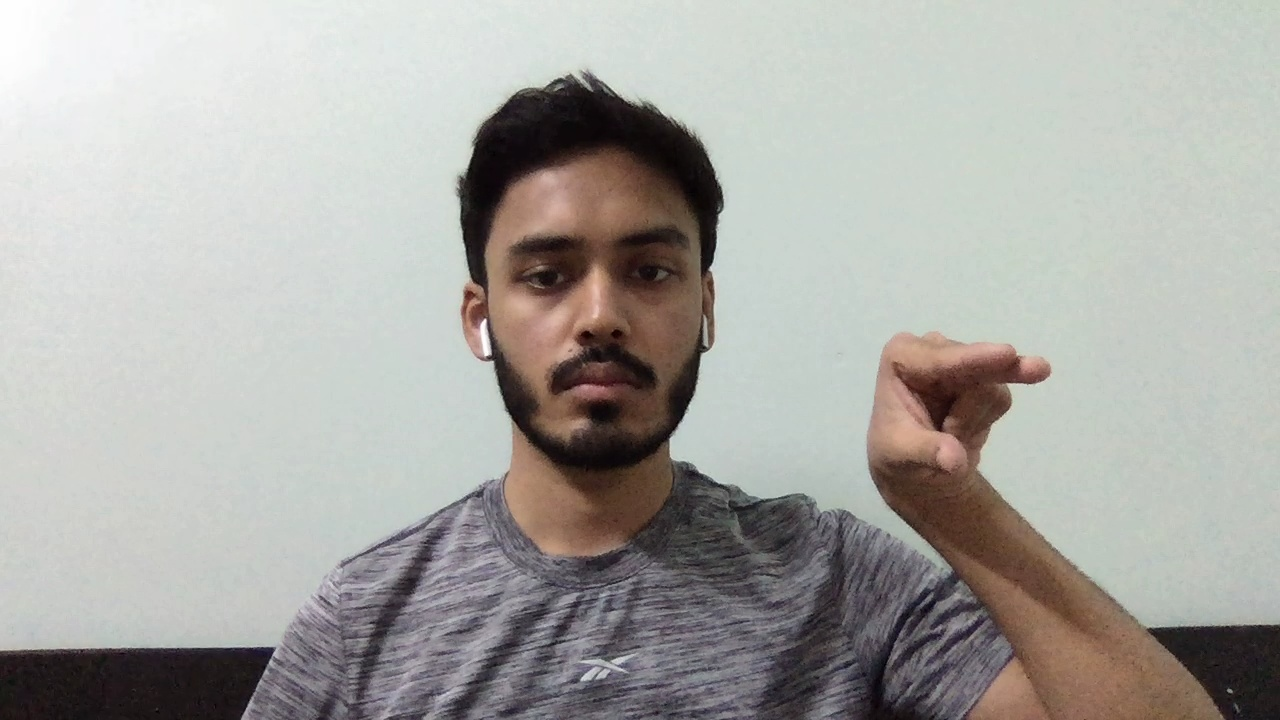No: (846, 322, 1068, 508)
